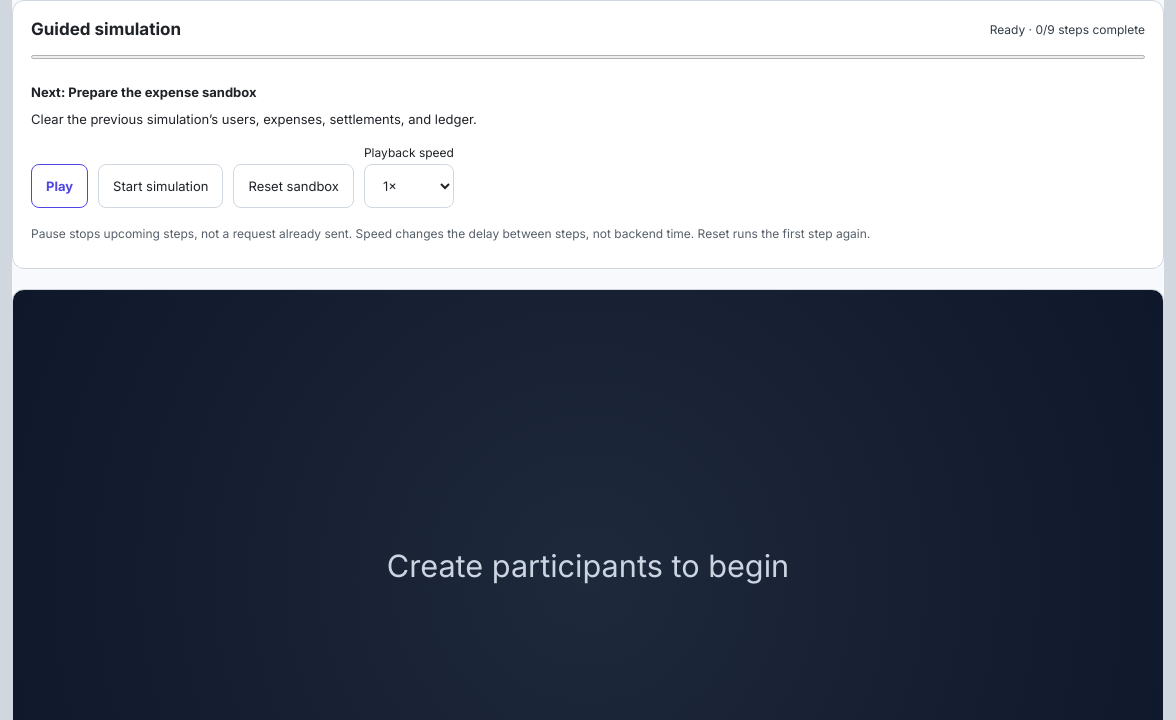
Test case: Commerce simulation playback › does not retry partially completed participant creation after a lost response
Click the button "Start simulation". click: (161, 186)
box: [98,164,224,208]
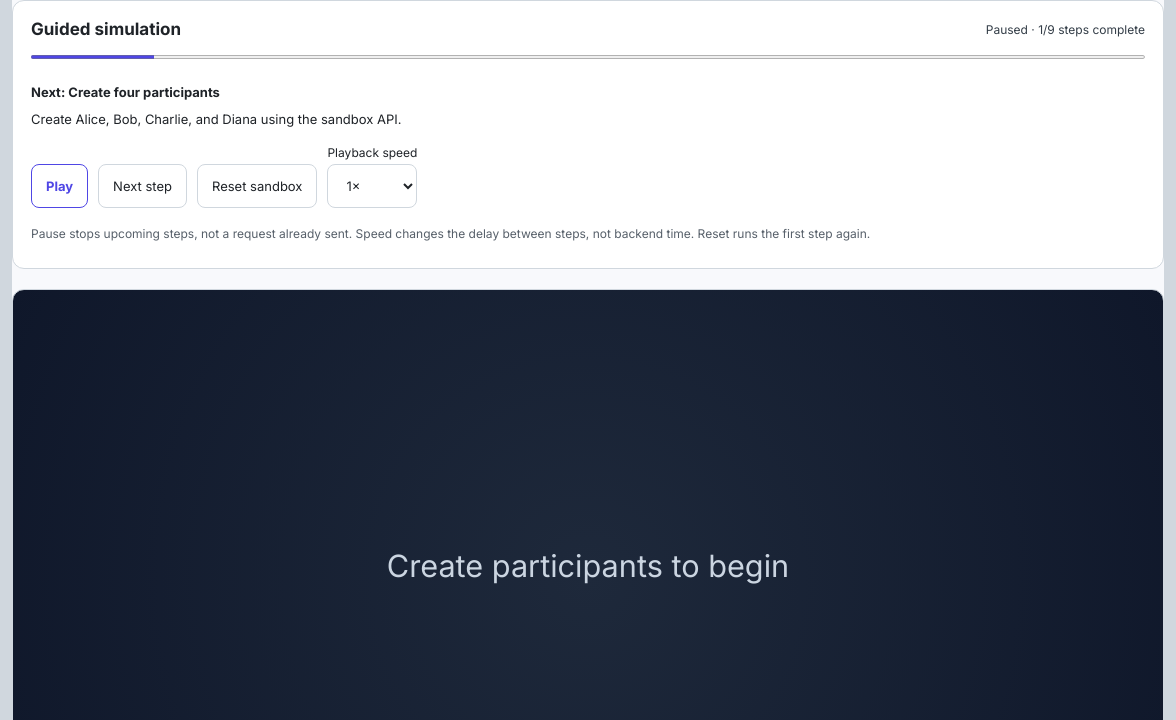
Expected: the progress indicator holds "1", [31,53,1145,61]
Click the button "Next step". click: (143, 186)
box: [98,164,187,208]
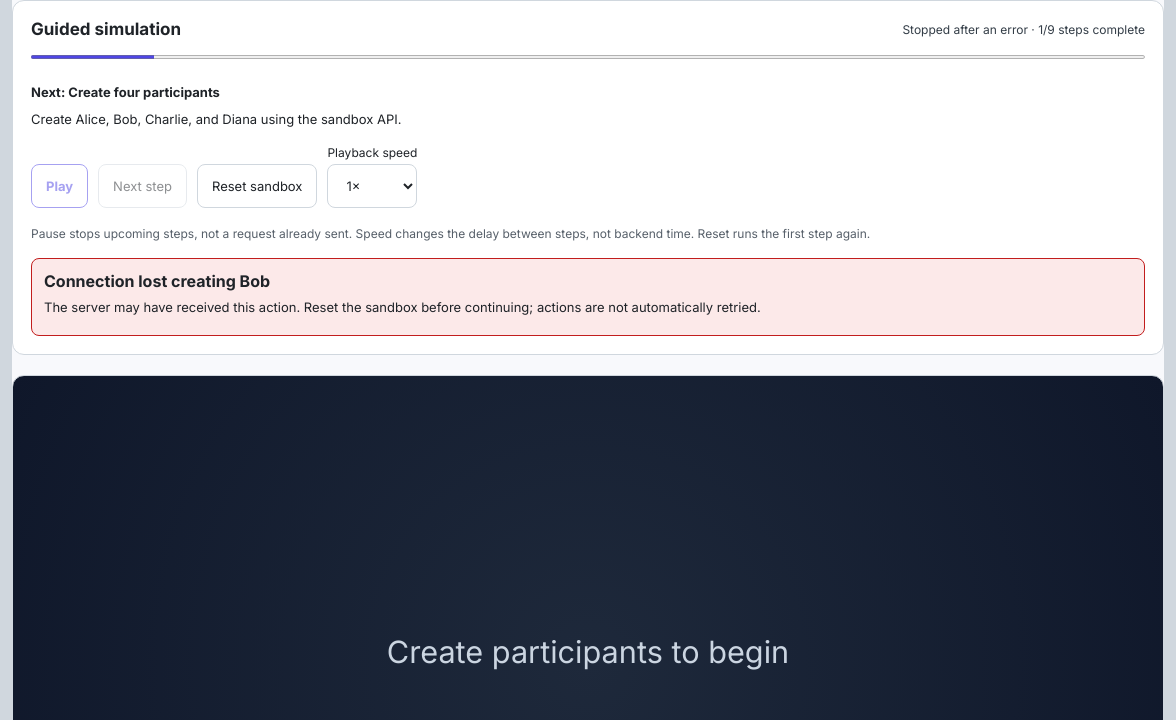
Expected: the message that starts with "Connection lost creating Bob" is shown, [44,271,270,291]
Expected: the button "Next step" is disabled, [98,164,187,208]
Click the button "Reset sandbox". click: (257, 186)
box: [197,164,318,208]
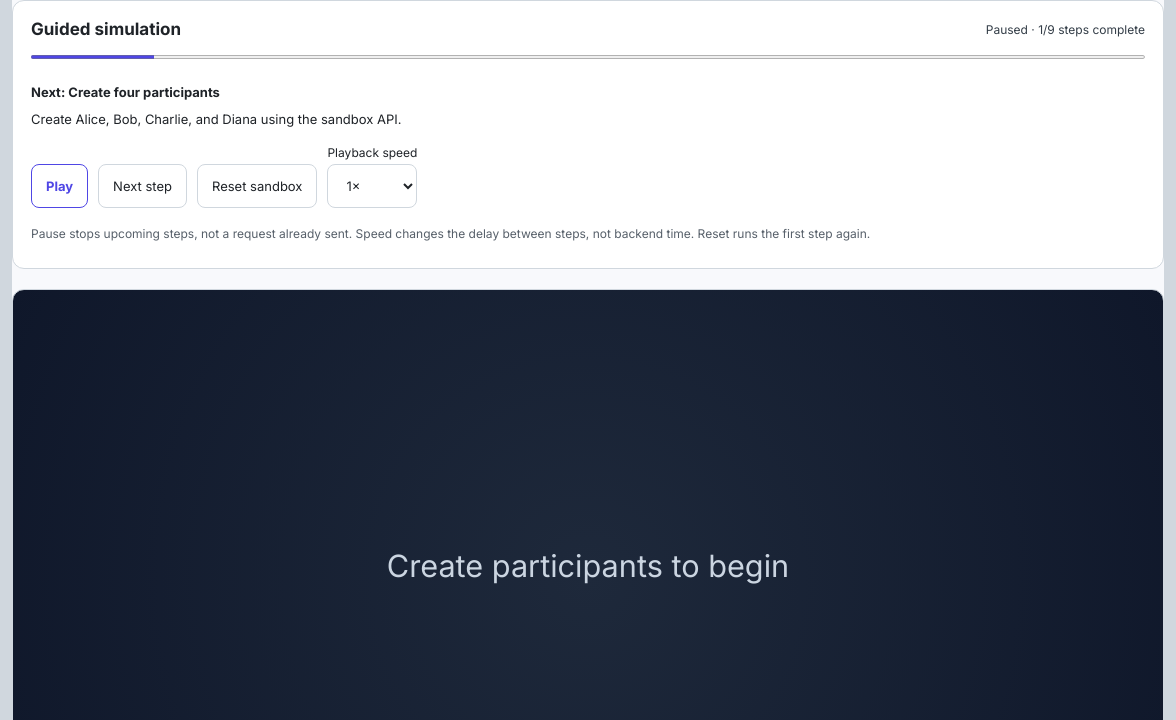
Expected: the progress indicator holds "1", [31,53,1145,61]
Expected: the button "Next step" is enabled, [98,164,187,208]
